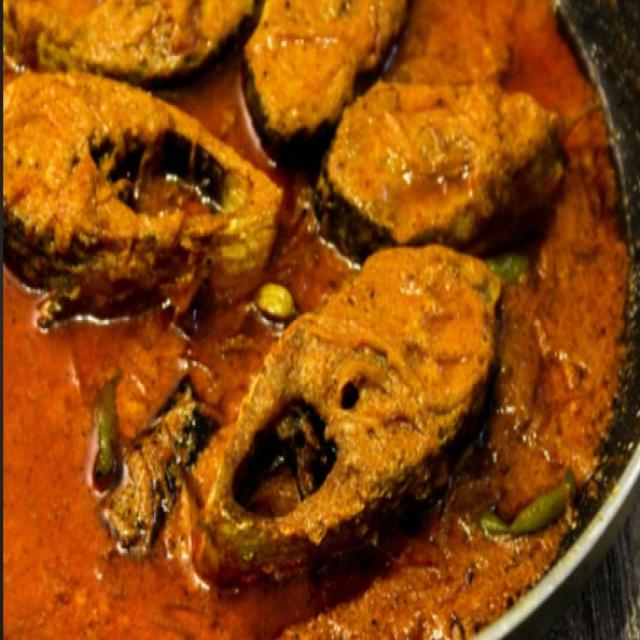FISH CURRY: (3, 0, 628, 638)
